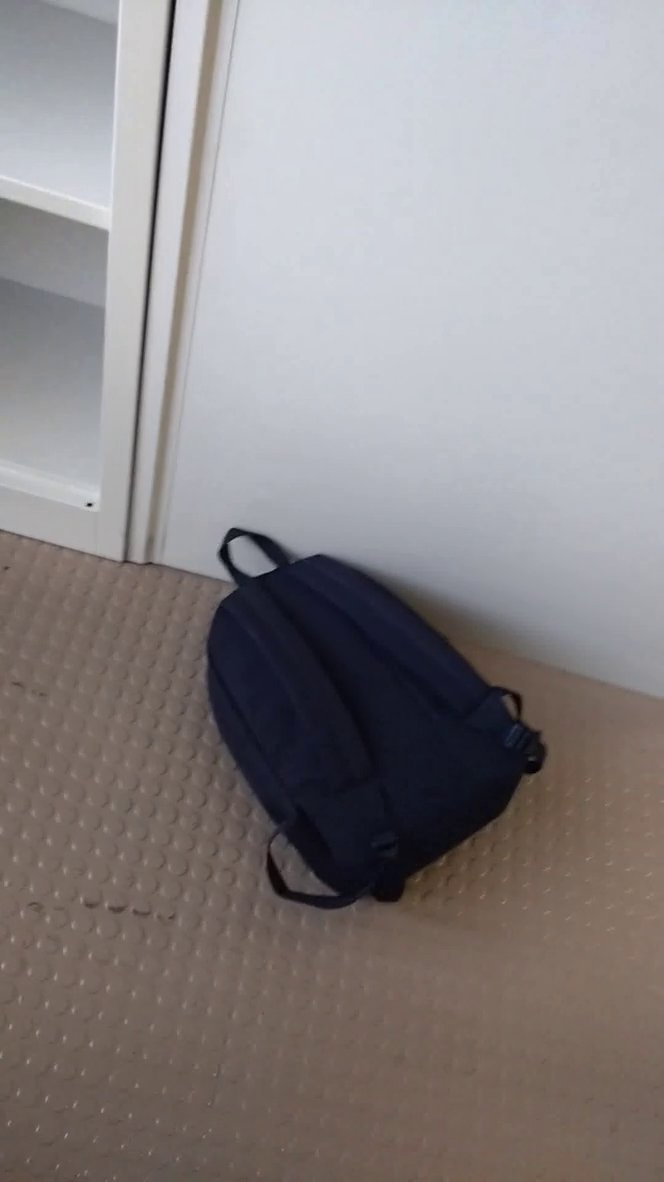bag: (197, 516, 569, 926)
